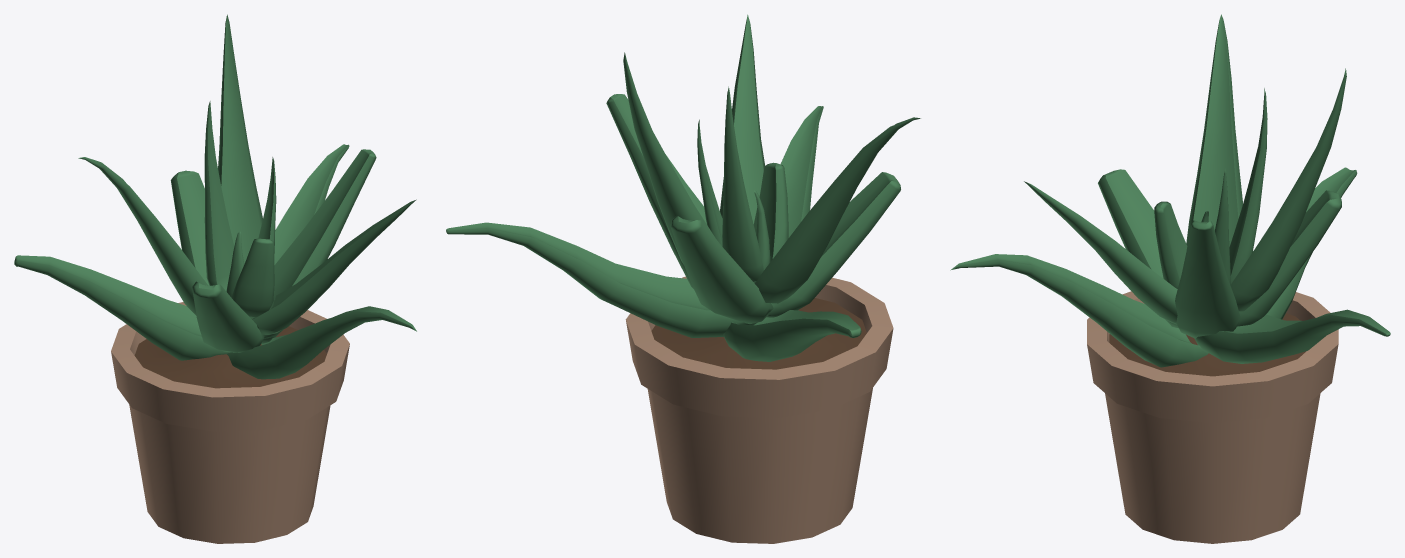
Rendered from outdoor_aloe_unwrapped.fbx.
The picture shows the model from 3 angles, left to right: view 1: azimuth 30°, elevation 25°; view 2: azimuth 150°, elevation 25°; view 3: azimuth 270°, elevation 25°; orthographic projection. The views are drawn at different scales.
Visible parts, largest first — view 1: outdoor_aloe2, pCylinder14, pDisc2; view 2: outdoor_aloe2, pCylinder14, pDisc2; view 3: outdoor_aloe2, pCylinder14, pDisc2.
Boxes of the visible parts, box(x1,y1,x2,y2) form: outdoor_aloe2: box(14, 14, 416, 379); pCylinder14: box(111, 302, 349, 543); pDisc2: box(134, 326, 326, 388); outdoor_aloe2: box(446, 14, 920, 361); pCylinder14: box(625, 276, 893, 543); pDisc2: box(651, 298, 866, 369); outdoor_aloe2: box(950, 14, 1390, 367); pCylinder14: box(1087, 291, 1338, 543); pDisc2: box(1109, 313, 1305, 376).
Size of the model in its own units: 0.1619 by 0.1915 by 0.1631.
